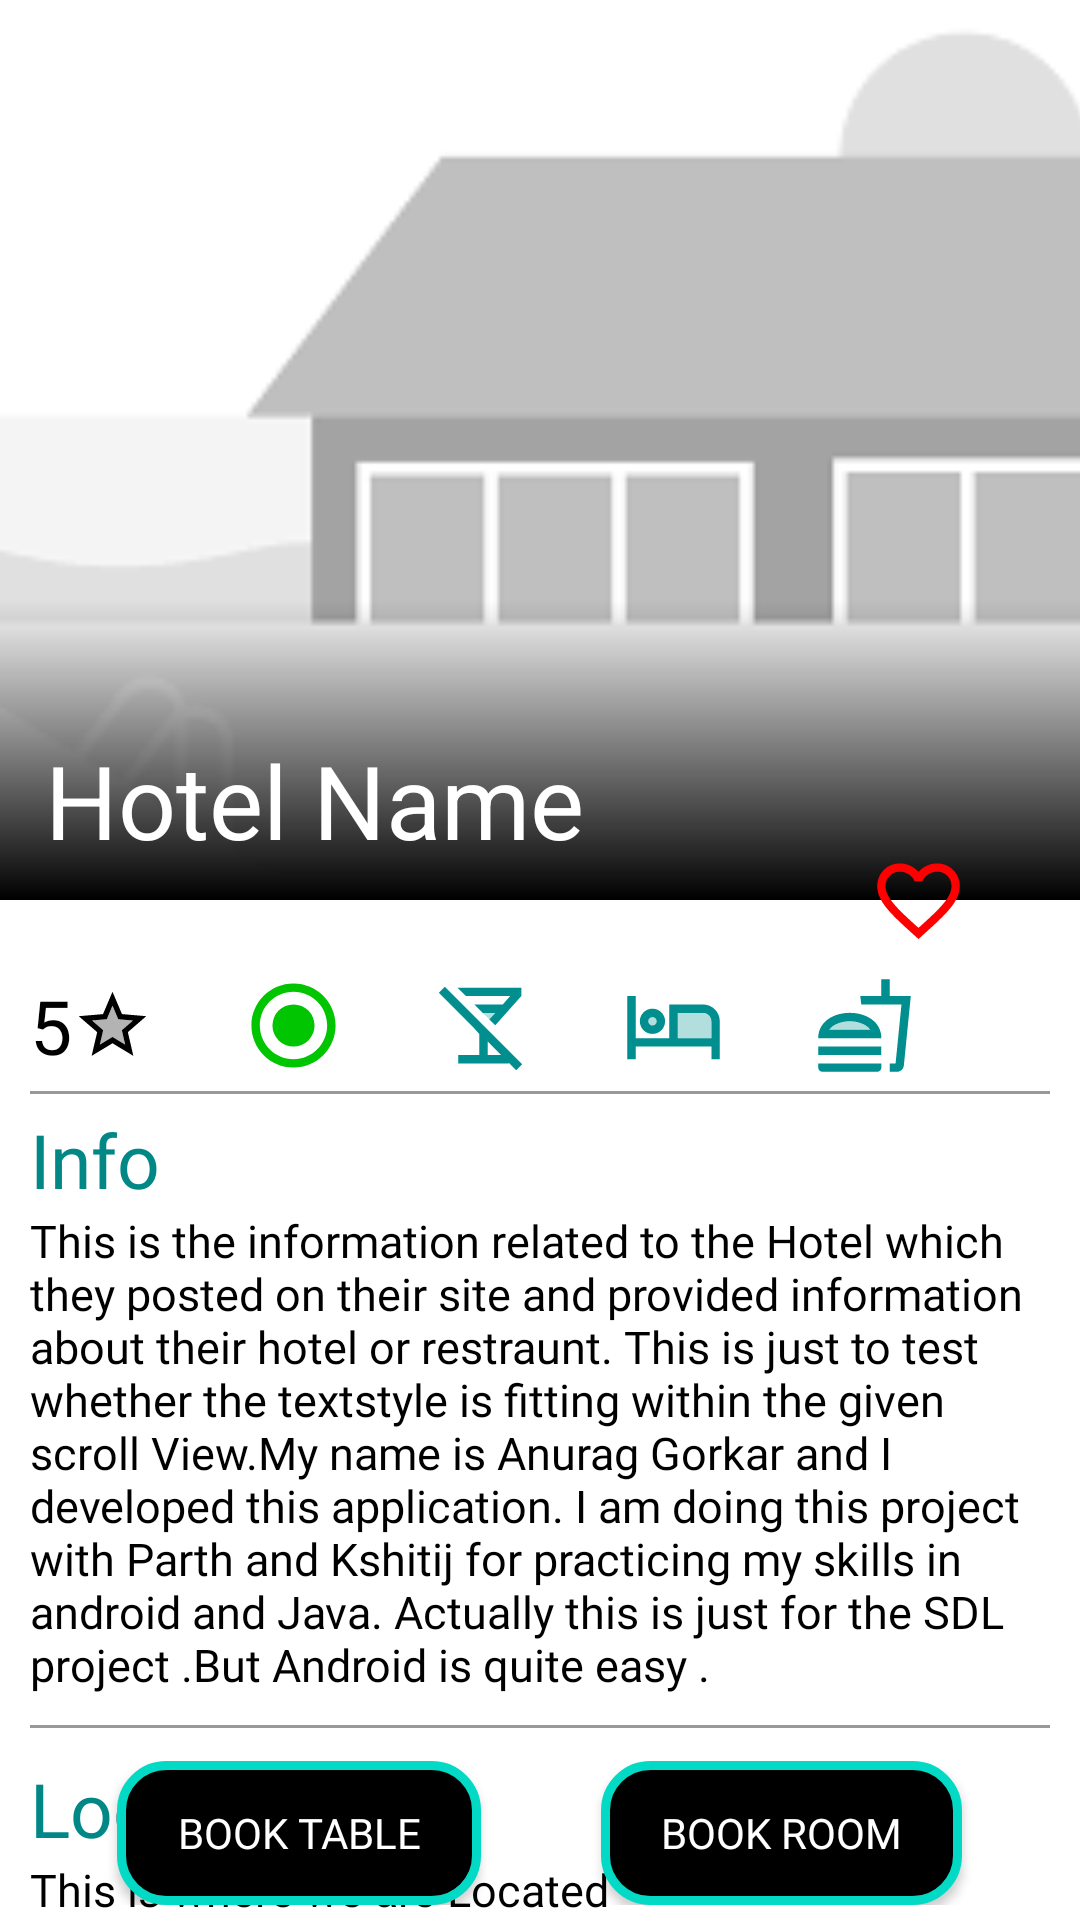

Named icons in this screenshot (1080w x 1920h) and their bounding boxes, (x1,y1,x2,y2):
fastfood: (818,979,911,1072)
no drinks: (439,987,522,1070)
star: (79,992,146,1056)
veg: (251,983,336,1068)
